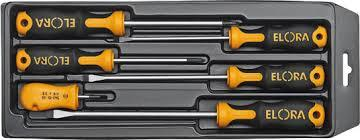screwdriver: (44, 108, 325, 127), (13, 45, 207, 69), (13, 8, 243, 28), (112, 26, 325, 47), (84, 70, 325, 88), (17, 79, 110, 103)
